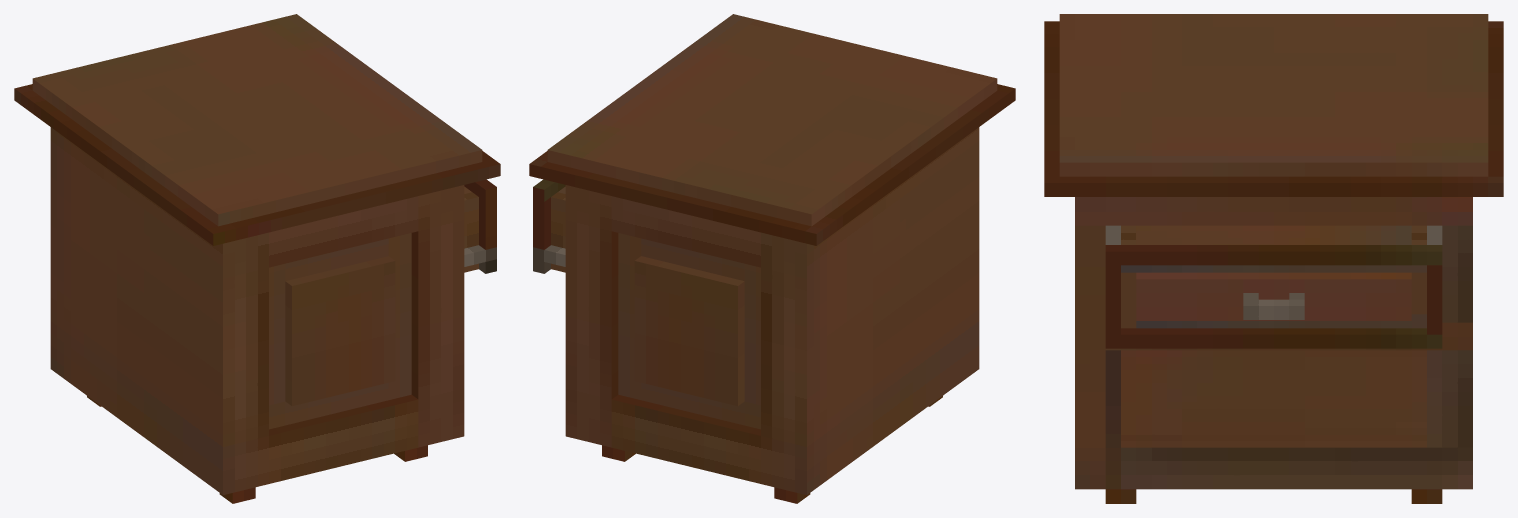
Rendered from bedside-2.glb.
3 views of the same model, side by side, from view 1: azimuth 30°, elevation 25°; view 2: azimuth 150°, elevation 25°; view 3: azimuth 270°, elevation 25° (orthographic). The views are drawn at different scales.
Visible parts, largest first — view 1: Bedside_Table2-Local; view 2: Bedside_Table2-Local; view 3: Bedside_Table2-Local.
Boxes of the visible parts, left/top/right/bottom form: Bedside_Table2-Local: left=14, top=14, right=500, bottom=503; Bedside_Table2-Local: left=529, top=14, right=1015, bottom=503; Bedside_Table2-Local: left=1044, top=14, right=1503, bottom=503.
Size of the model in its own units: 0.9667 by 0.8667 by 1.
2 materials, 2 textured.
